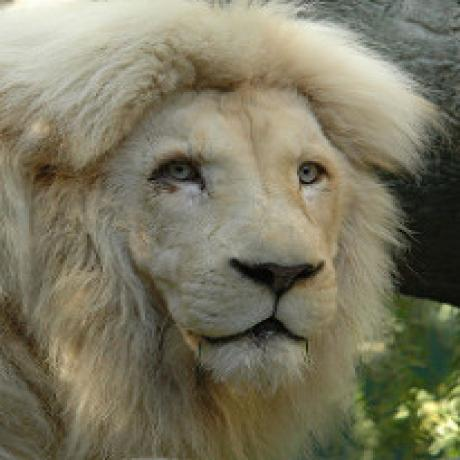Lion: (0, 0, 423, 460)
